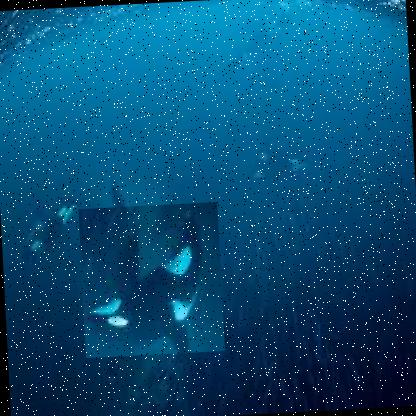killer_whale: (77, 202, 226, 359)
